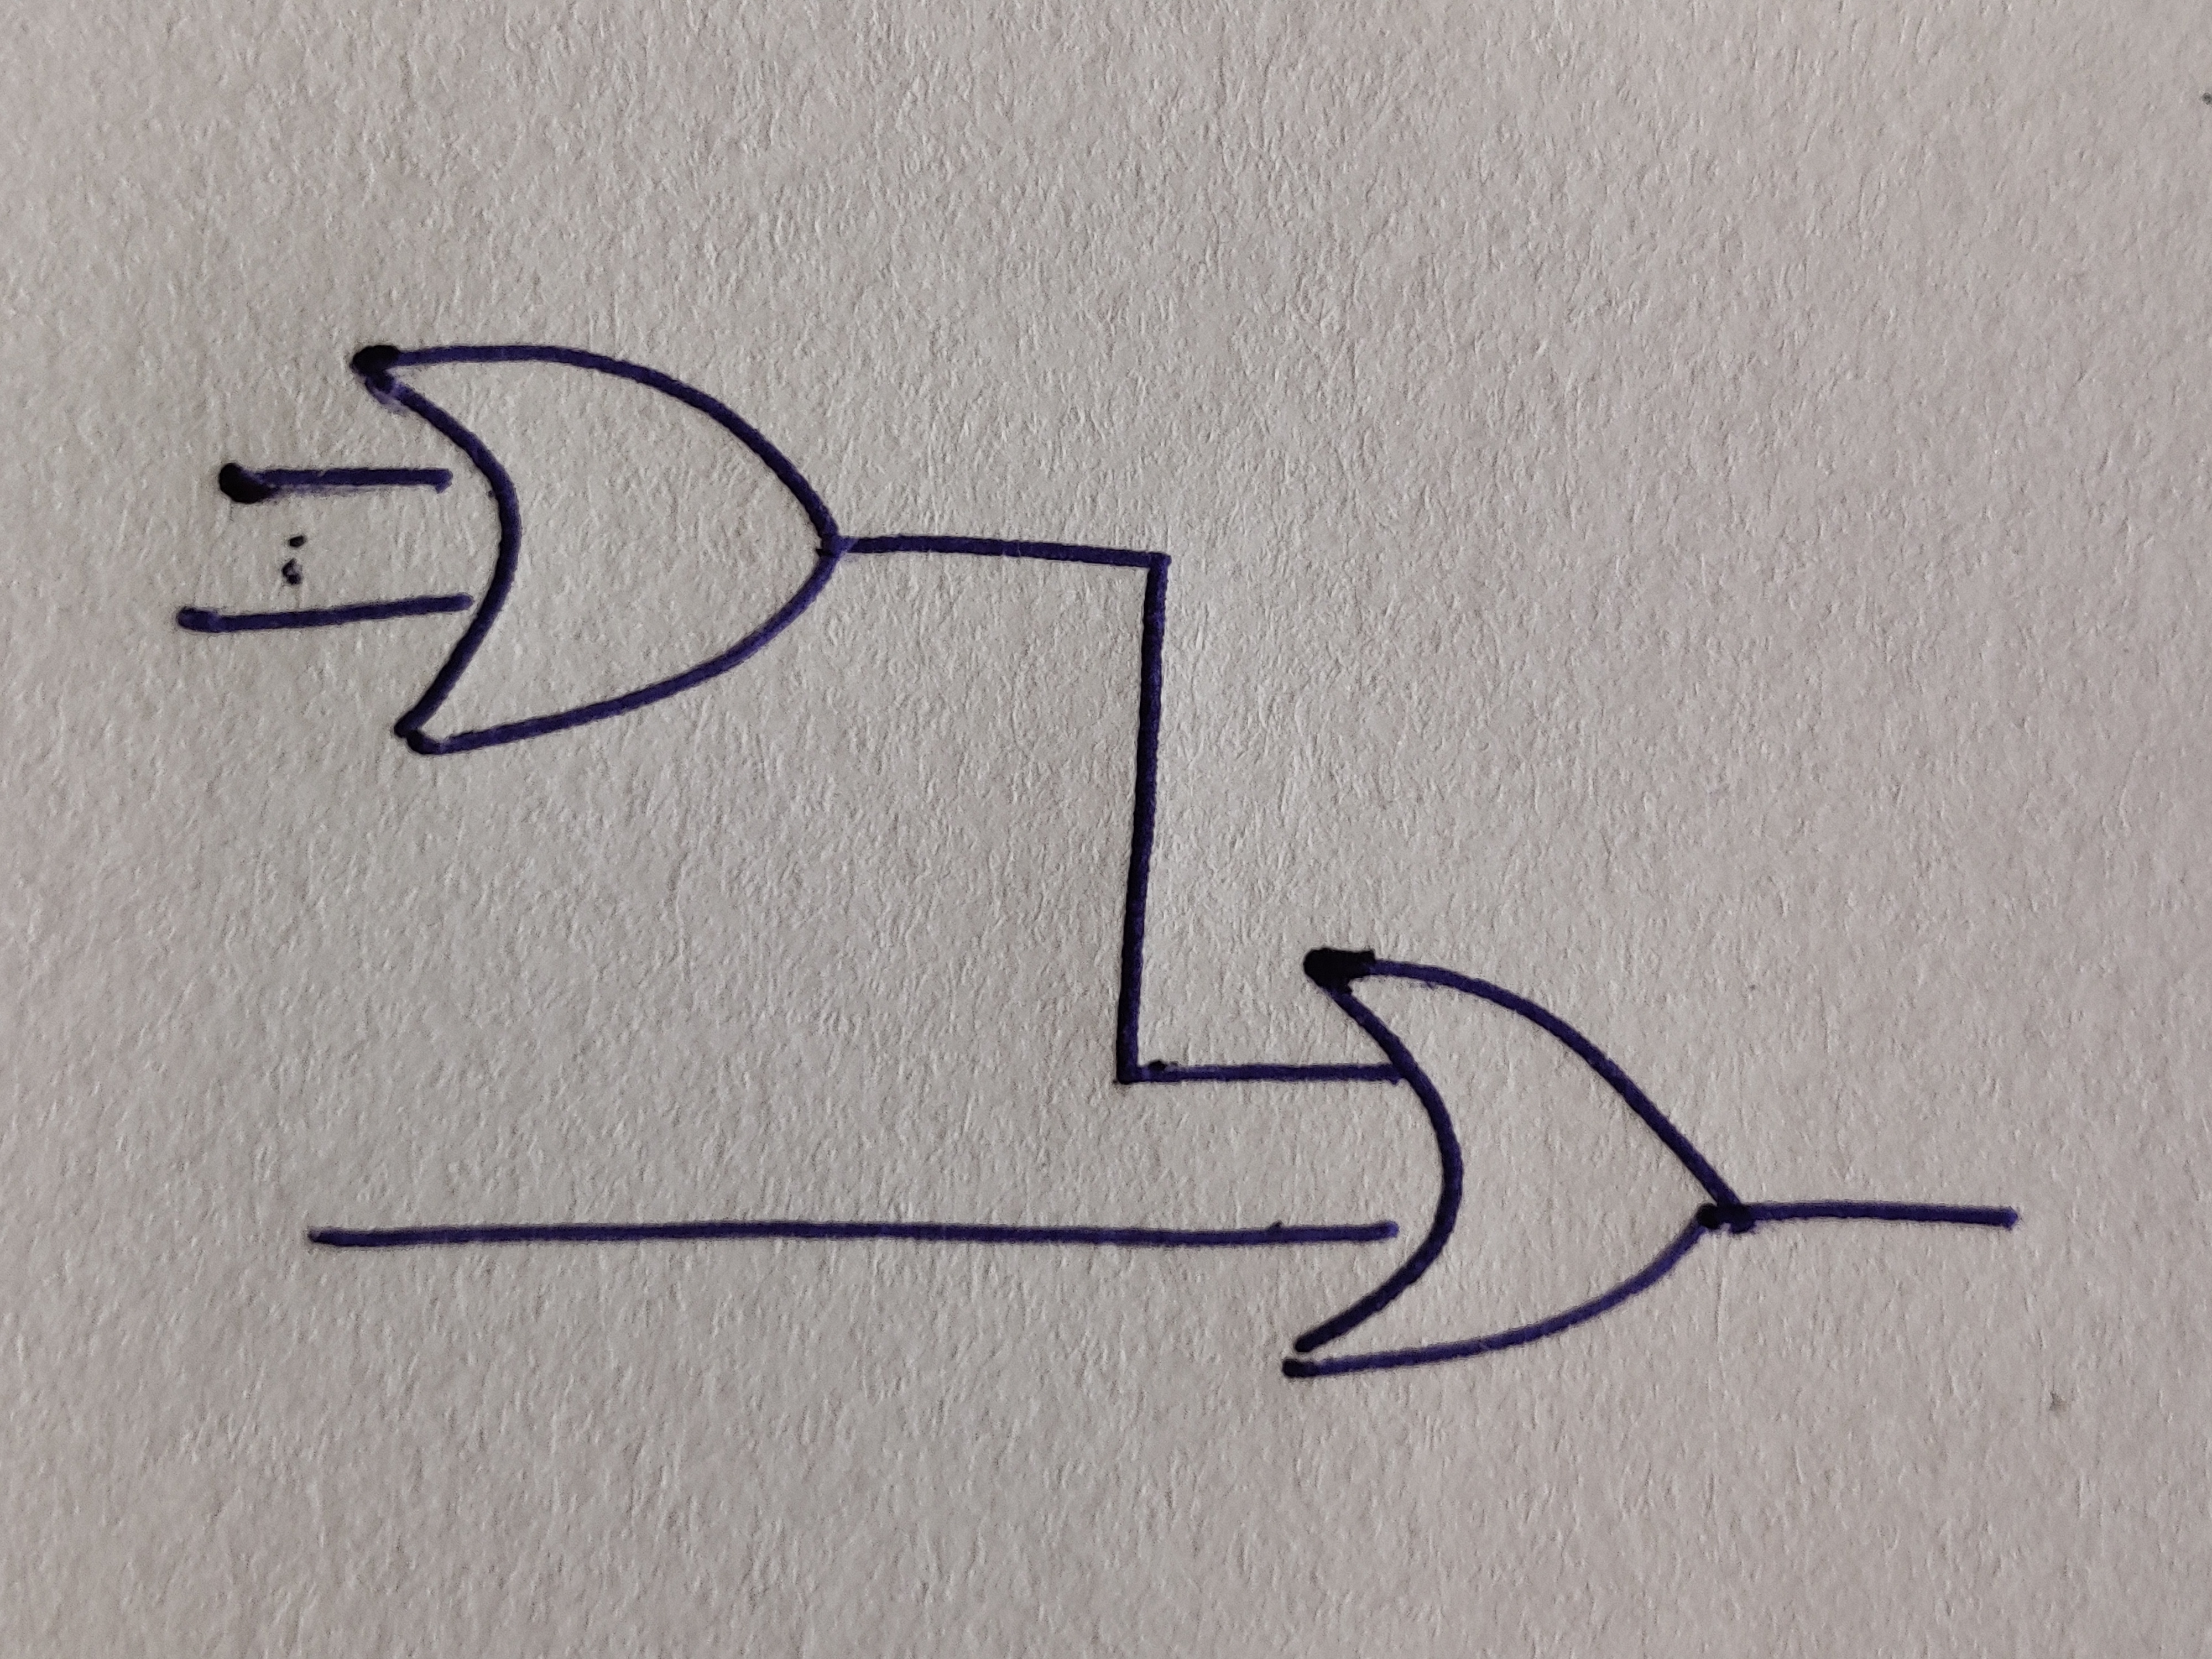or: (1284, 946, 1756, 1380), (348, 343, 841, 755)
